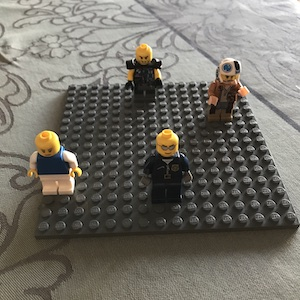Lego: (138, 129, 195, 202), (25, 130, 82, 196), (204, 58, 247, 123), (125, 44, 166, 107)
